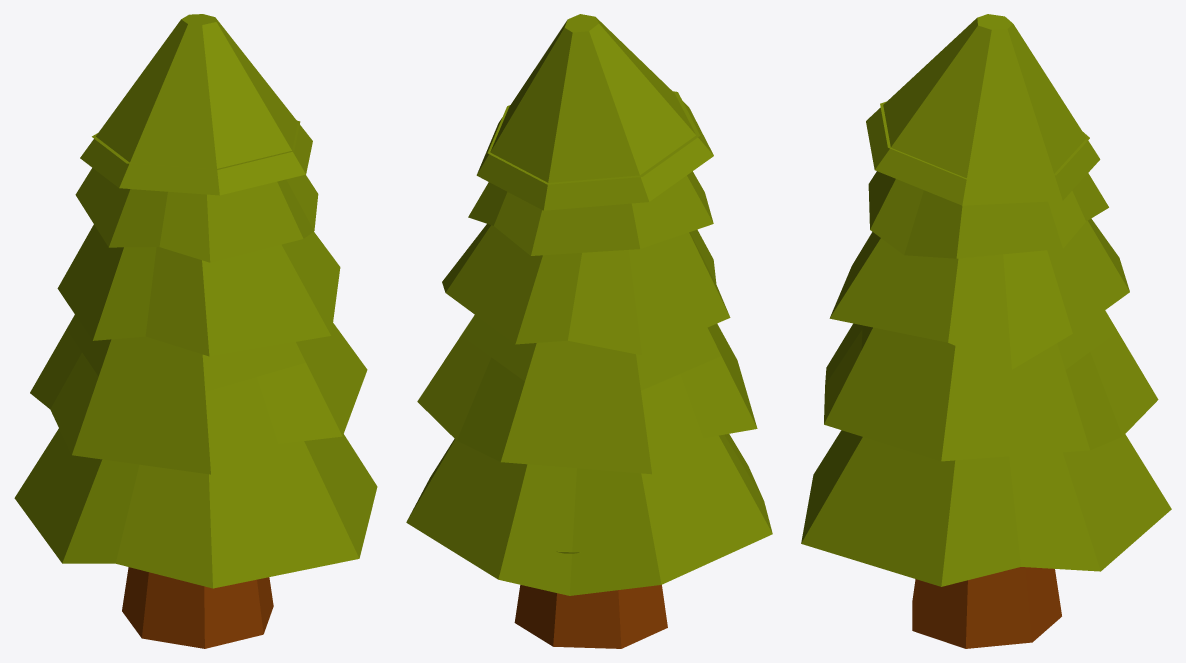
File: tree002.fbx
3 views of the same model, side by side, from view 1: azimuth 30°, elevation 25°; view 2: azimuth 150°, elevation 25°; view 3: azimuth 270°, elevation 25° (orthographic).
Parts seen in each view (by area): view 1: Cylinder; view 2: Cylinder; view 3: Cylinder.
Part boxes in pixels (x1,y1,x2,y2): Cylinder: (14, 14, 377, 648); Cylinder: (406, 14, 772, 648); Cylinder: (801, 14, 1171, 648).
Size of the model in its own units: 2.82 by 2.84 by 5.06.
